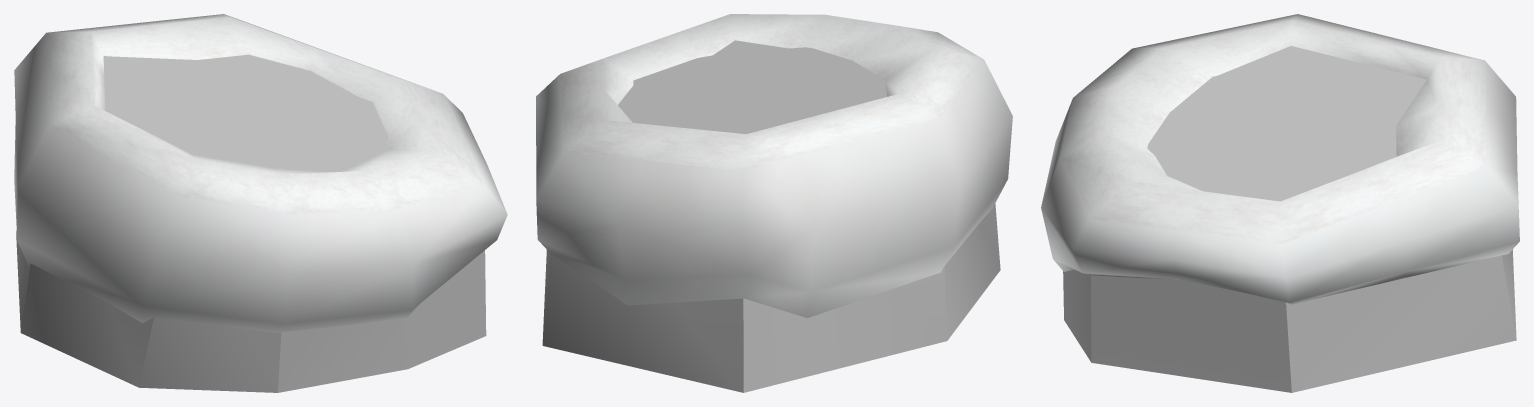
File: SM_DeadTrunk_03.FBX
3 views of the same model, side by side, from view 1: azimuth 30°, elevation 25°; view 2: azimuth 150°, elevation 25°; view 3: azimuth 270°, elevation 25° (orthographic). The views are drawn at different scales.
Parts seen in each view (by area): view 1: SM_DeadTrunk_03; view 2: SM_DeadTrunk_03; view 3: SM_DeadTrunk_03.
Boxes of the visible parts, left/top/right/bottom form: SM_DeadTrunk_03: left=14, top=14, right=507, bottom=392; SM_DeadTrunk_03: left=536, top=14, right=1012, bottom=392; SM_DeadTrunk_03: left=1041, top=14, right=1519, bottom=392.
Size of the model in its own units: 96.6 by 47.36 by 97.93.
